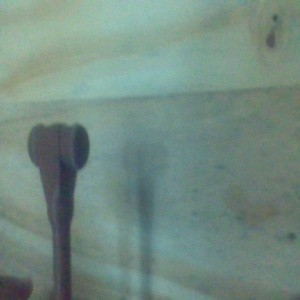palu: (27, 121, 90, 300)
